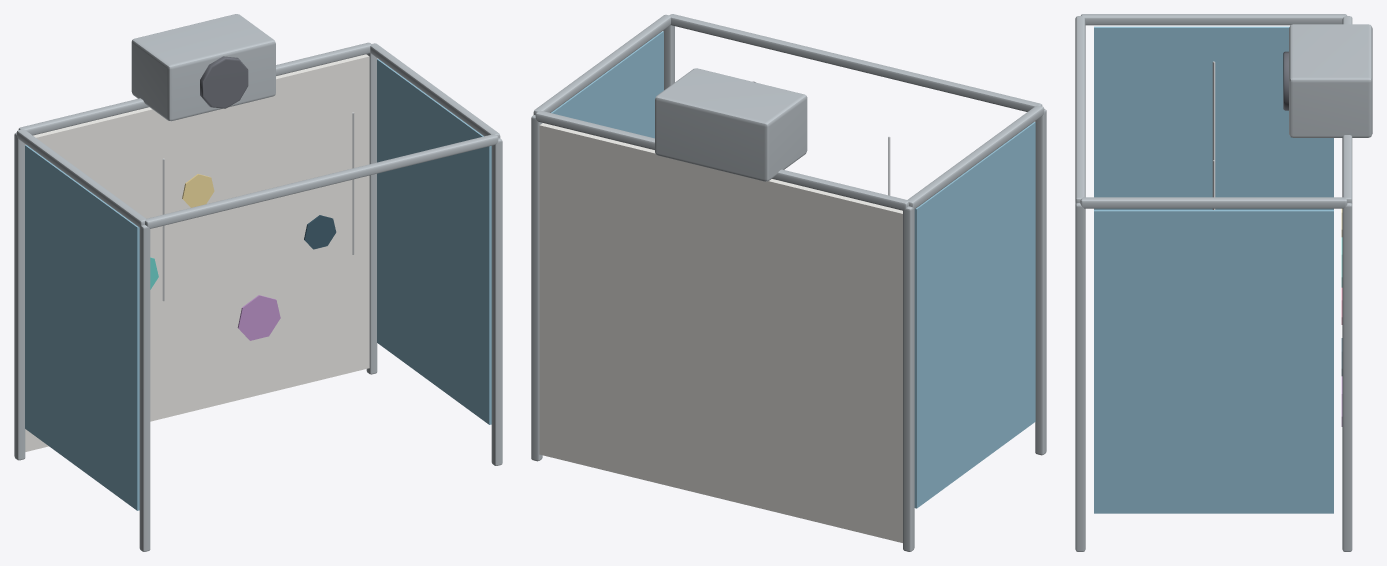
File: SprayBooth.fbx
3 renders of one model, left to right at view 1: azimuth 30°, elevation 25°; view 2: azimuth 150°, elevation 25°; view 3: azimuth 270°, elevation 25°, orthographic. The views are drawn at different scales.
Visible parts, largest first — view 1: SprayBooth; view 2: SprayBooth; view 3: SprayBooth.
Boxes of the visible parts, left/top/right/bottom form: SprayBooth: left=14, top=14, right=502, bottom=551; SprayBooth: left=531, top=14, right=1046, bottom=551; SprayBooth: left=1075, top=14, right=1372, bottom=551.
Size of the model in its own units: 2.66 by 2.7 by 1.78.
